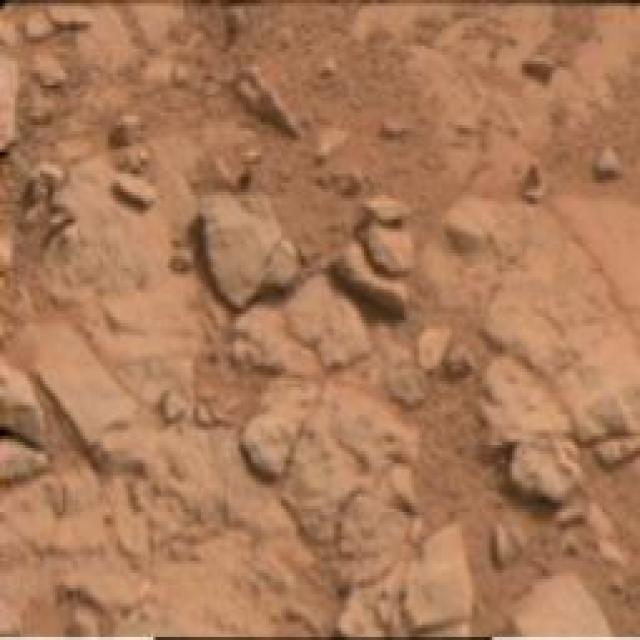rock: (200, 191, 300, 311), (0, 362, 56, 495), (331, 242, 408, 312), (506, 444, 584, 506), (241, 63, 304, 138), (238, 416, 306, 476), (364, 224, 416, 274), (17, 164, 63, 208), (368, 190, 410, 227), (110, 112, 150, 150), (113, 177, 160, 208), (518, 56, 564, 86), (592, 151, 622, 180)
